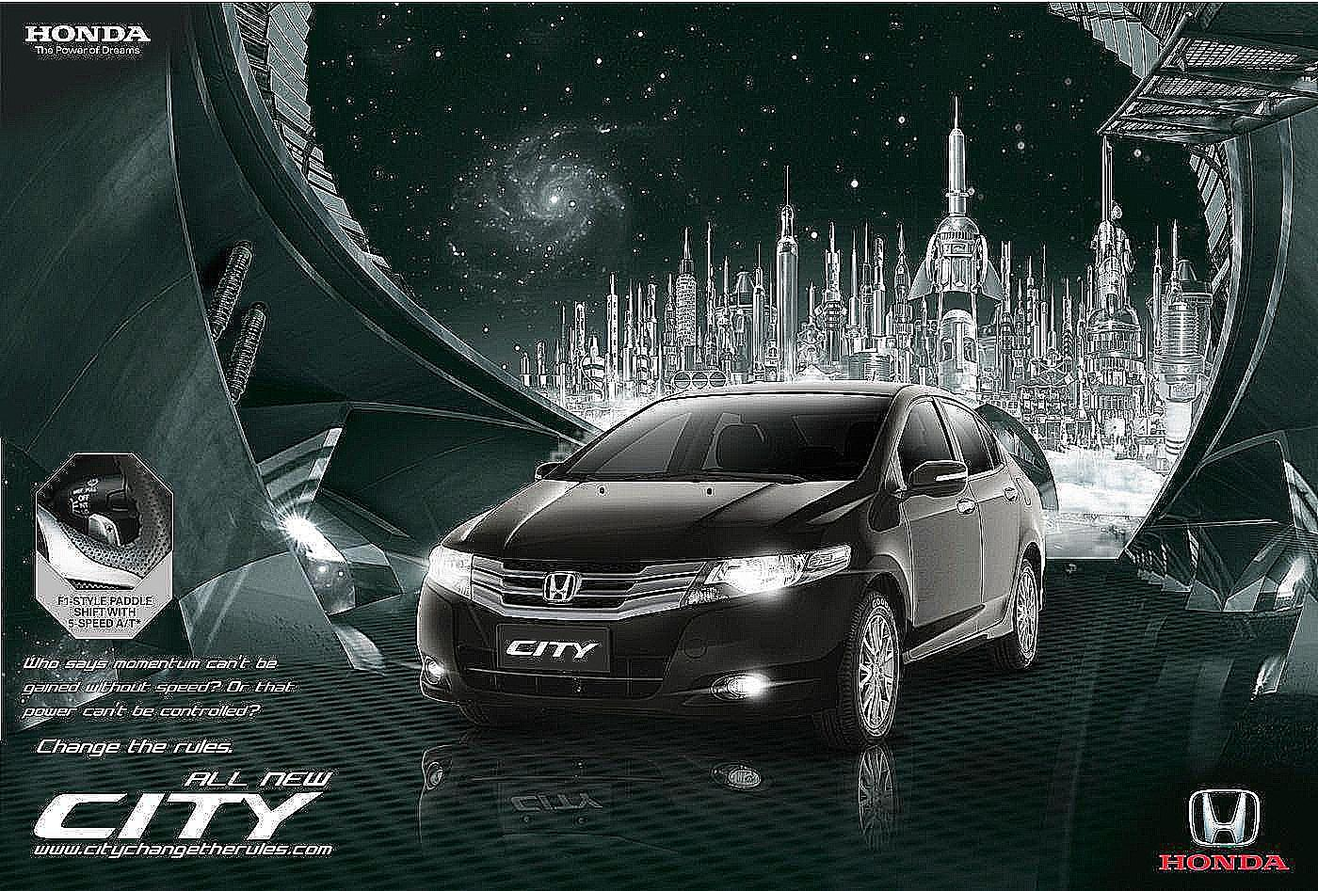Car hood: (445, 475, 868, 574)
Fender - -F-L-: (810, 464, 932, 643)
Front bumper: (408, 578, 863, 722)
Headlight - -L-: (684, 539, 851, 608)
Headlight - -R-: (421, 546, 475, 601)
Passenger-s door - -F-L-: (878, 378, 997, 670)
Passenger-s door - -R-L-: (931, 372, 1025, 657)
Side bumper - -L-: (894, 597, 1024, 684)
Side mirror - -L-: (884, 458, 969, 509)
